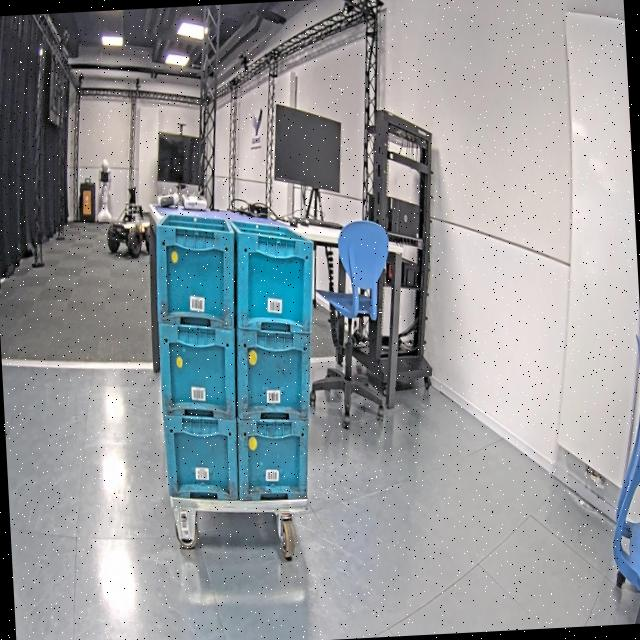BoxB8: (150, 204, 330, 509)
